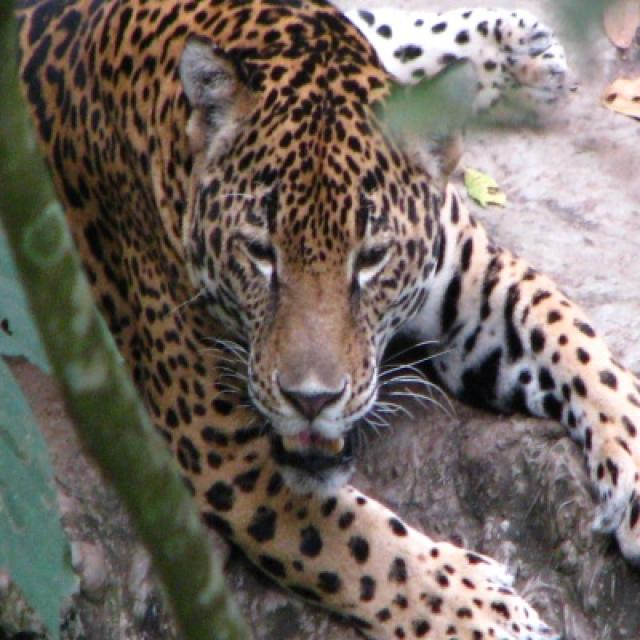Jaguar: (19, 0, 638, 638)
